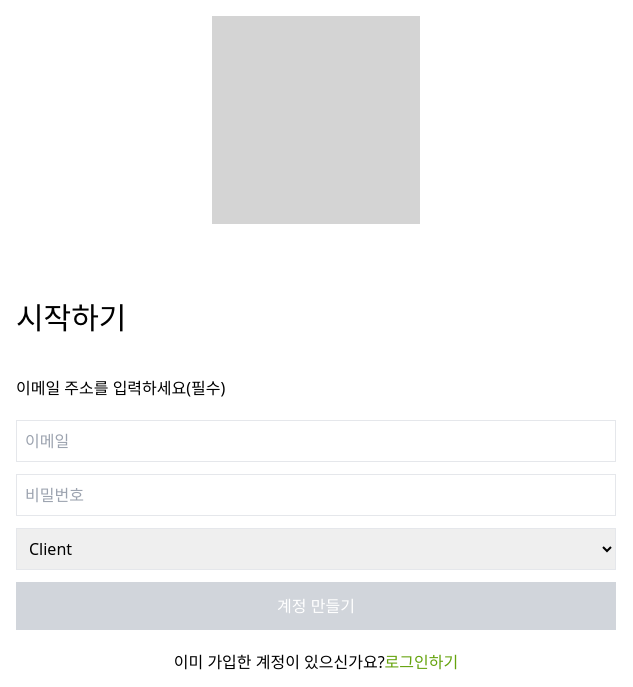
it: <CreateAccount/> › display the password validation error
This screenshot has width=633, height=687.
Type "12" into the password field with placeholder "비밀번호".
click(316, 495); type("12")  # box [16,474,616,516]
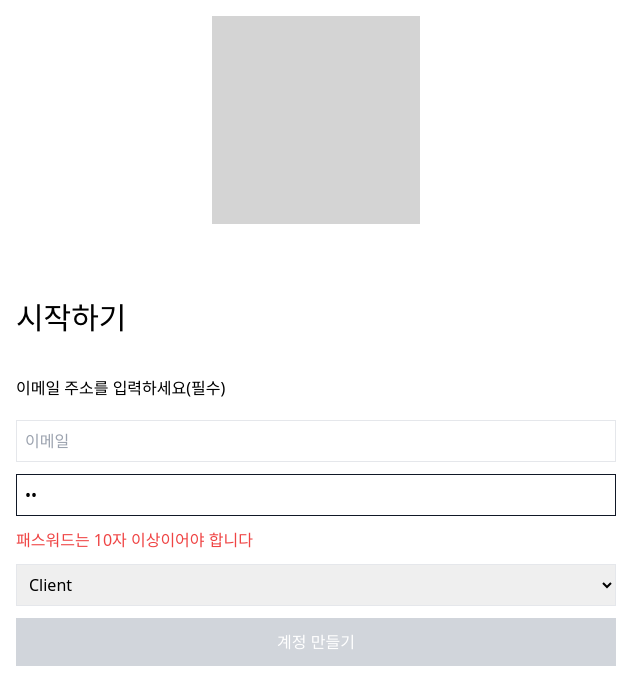
Check: the message reads "패스워드는 10자 이상이어야 합니다", box [16,529,253,551]
Clear the password field with placeholder "비밀번호" at (316, 495), box [16,474,616,516]
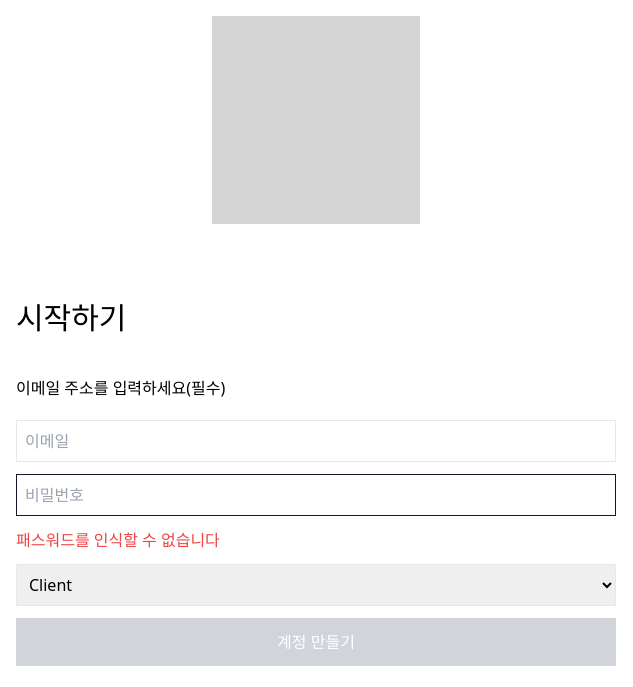
Check: the message reads "패스워드를 인식할 수 없습니다", box [16,529,220,551]
